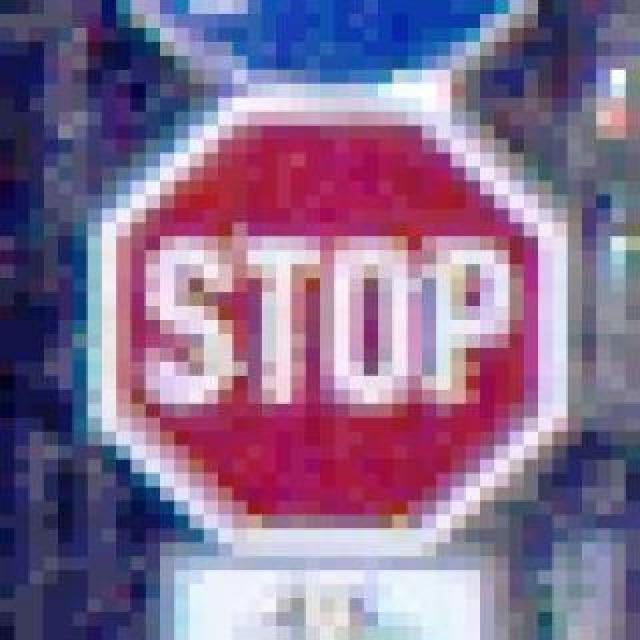stop: (88, 56, 568, 556)
